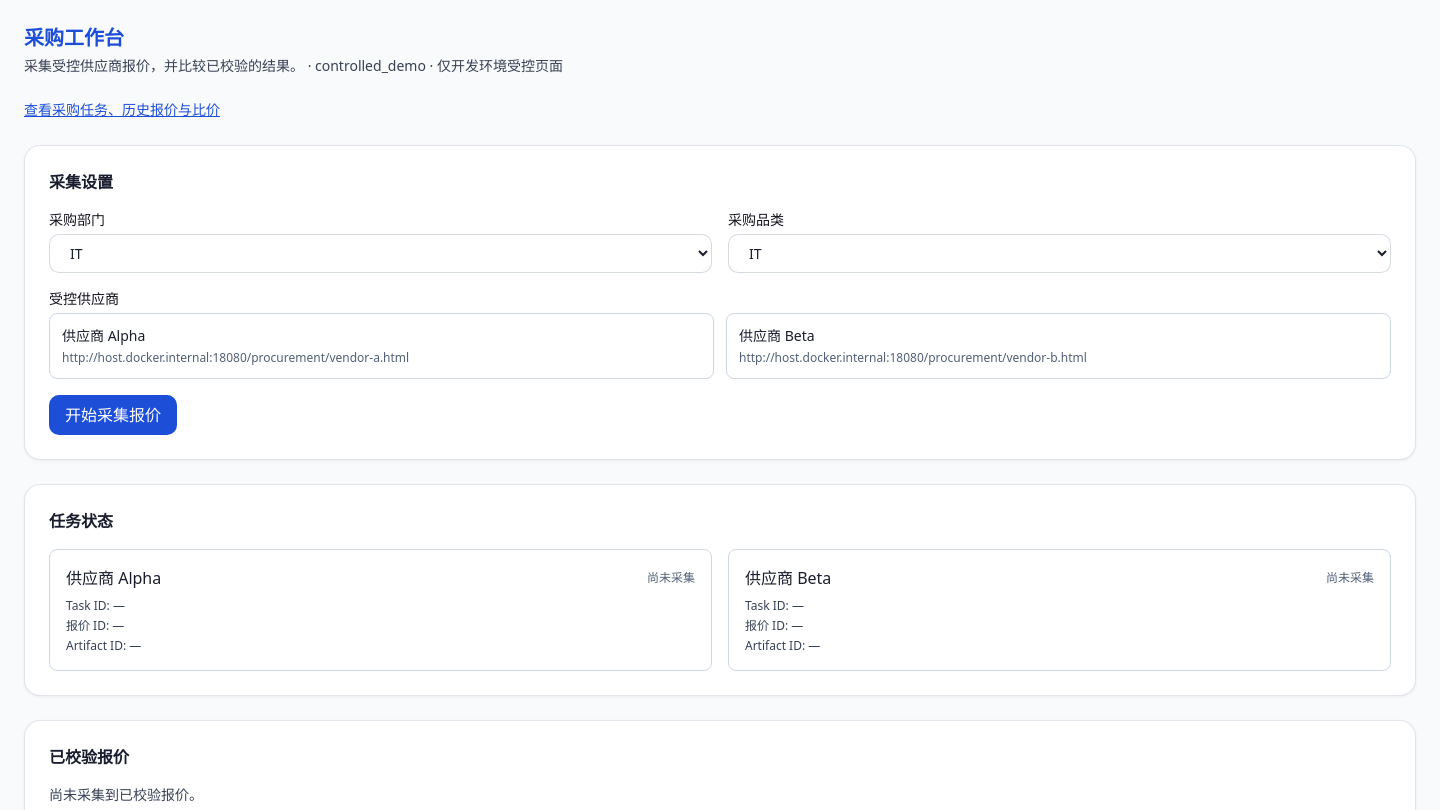
ProcurementWorkbenchPage › handles approval rejected without automatic continuation
The image size is (1440, 810).
Click the button "开始采集报价". click: (113, 415)
box: [49, 395, 177, 435]
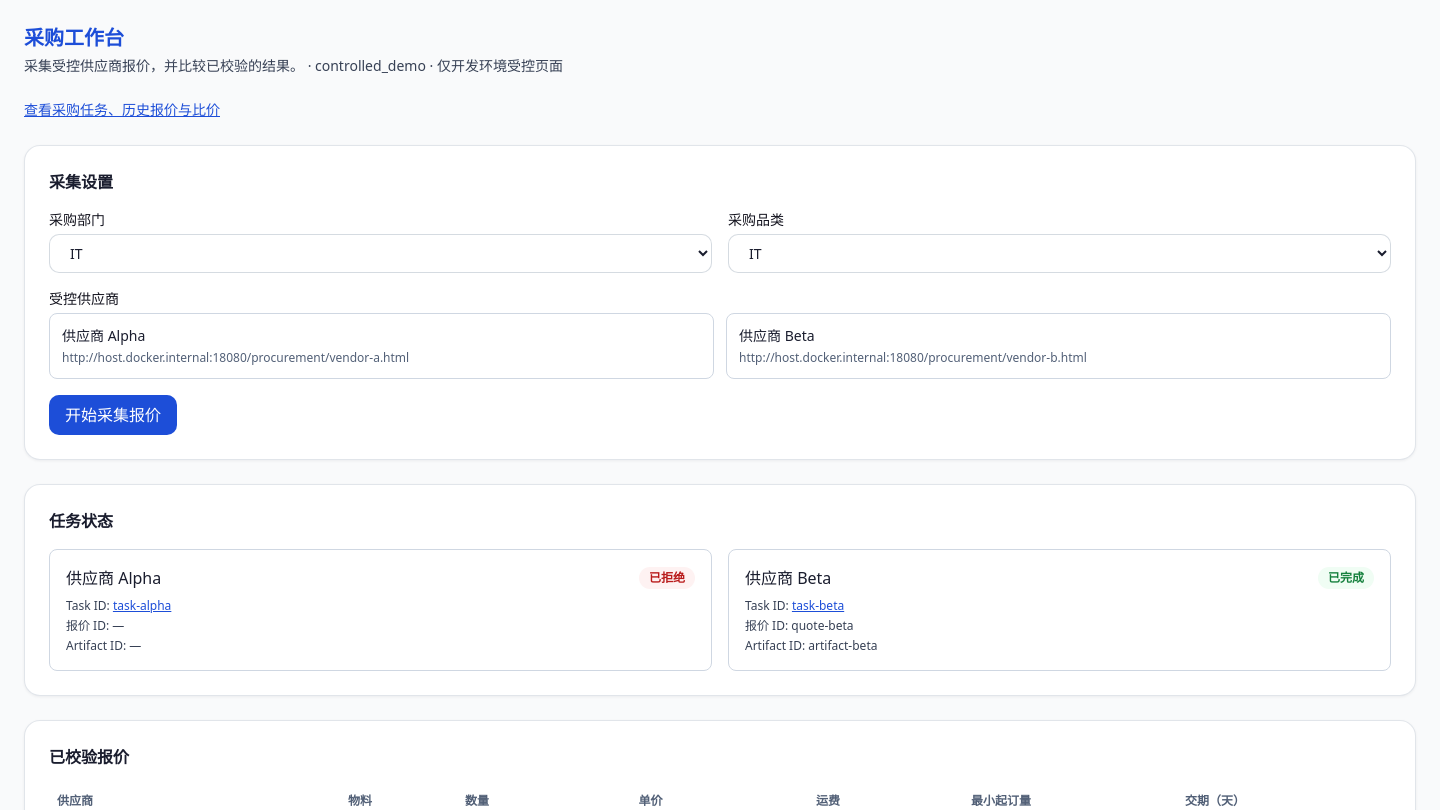
Check: the link "task-beta" is shown, box [792, 597, 844, 614]
Check: the text "已拒绝" is shown, box [639, 567, 695, 589]
